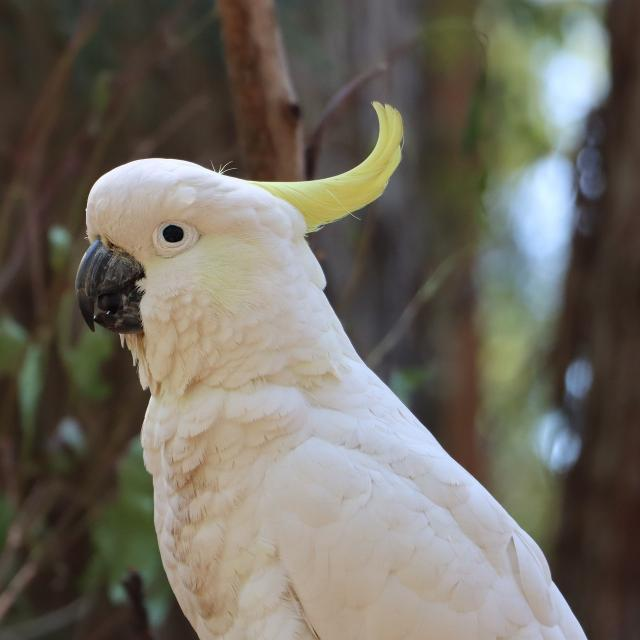Kakatua Putih: (41, 75, 640, 640)
